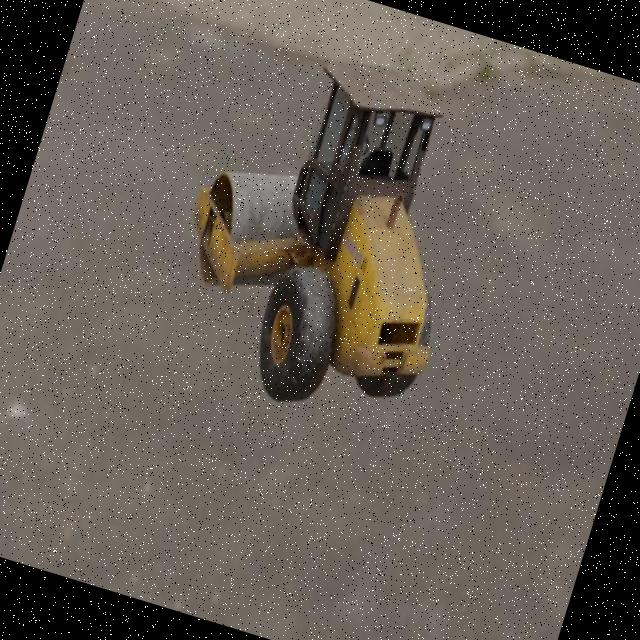Roller: (146, 23, 505, 440)
